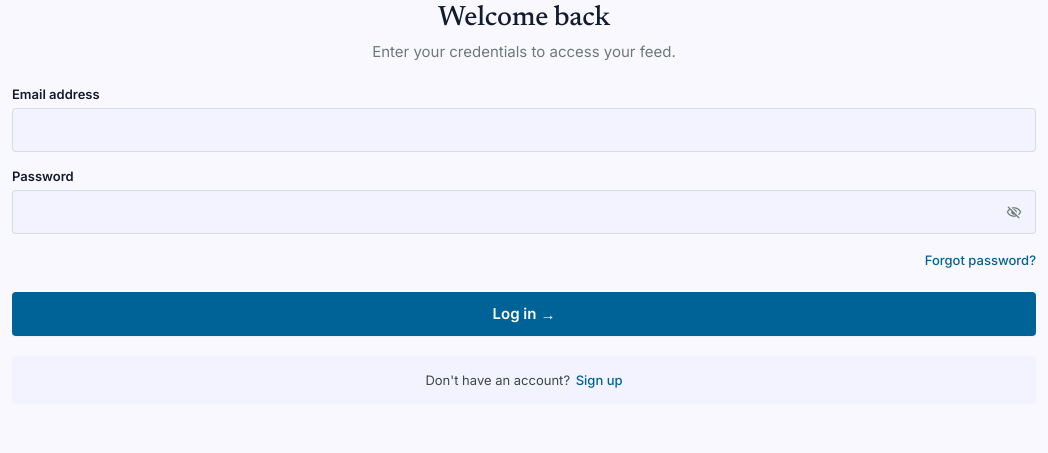
Scenario: LoginForm › validates before sending anything
Click the button "Log in →".
click(524, 314)  # box x1=12 y1=292 x2=1036 y2=336
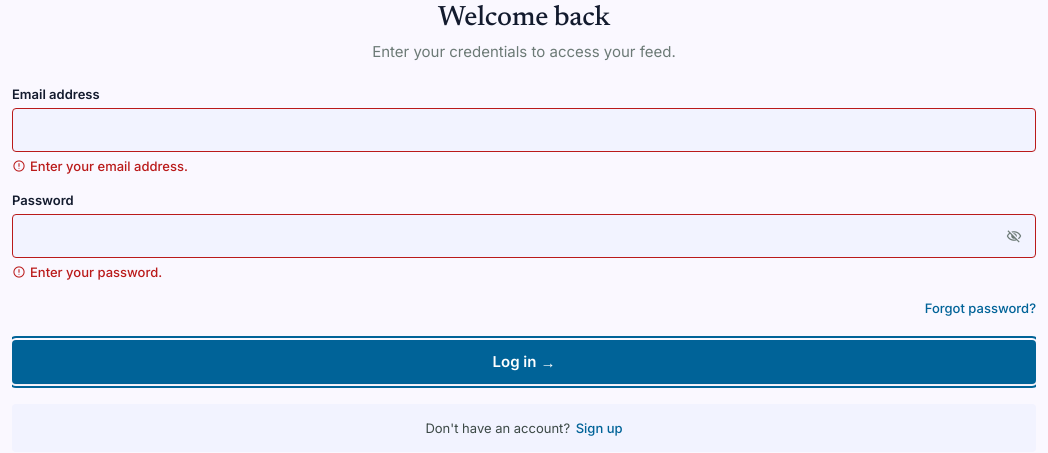
Now the text "Enter your email address." is shown, box x1=12 y1=158 x2=188 y2=174
Now the text "Enter your password." is shown, box x1=12 y1=264 x2=162 y2=280
